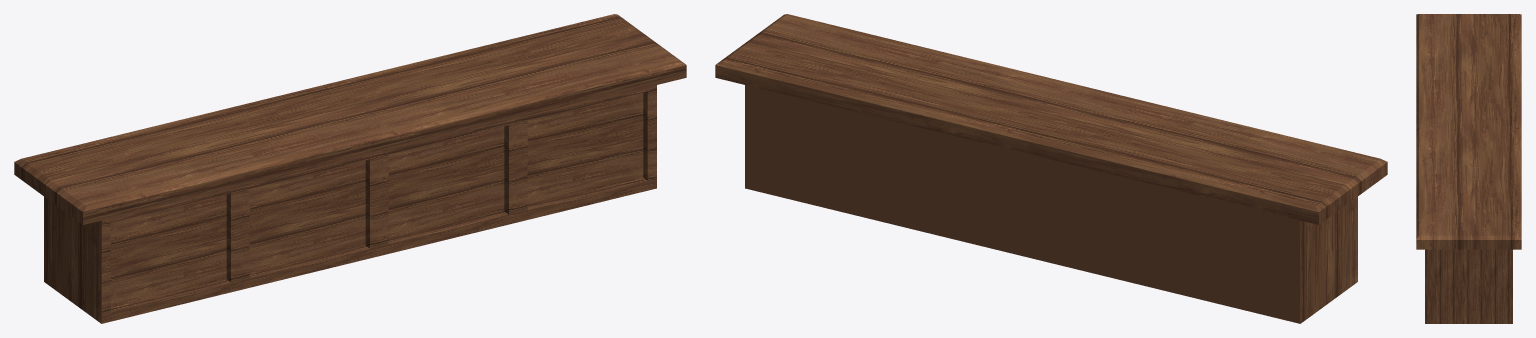
File: cooking_table.fbx
3 views of the same model, side by side, from view 1: azimuth 30°, elevation 25°; view 2: azimuth 150°, elevation 25°; view 3: azimuth 270°, elevation 25° (orthographic). The views are drawn at different scales.
Parts seen in each view (by area): view 1: cooking_table; view 2: cooking_table; view 3: cooking_table.
Part boxes in pixels (box(x1,y1,x2,y2)): cooking_table: box(14, 14, 686, 323); cooking_table: box(715, 14, 1387, 323); cooking_table: box(1416, 14, 1521, 323).
Size of the model in its own units: 5.06 by 1 by 1.
